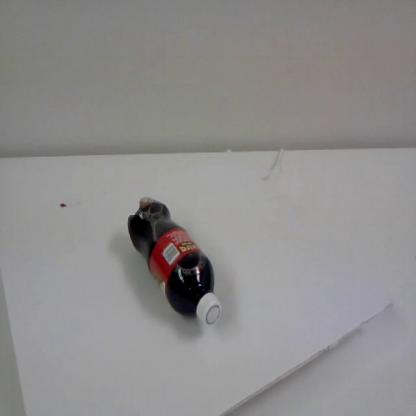bottle: (124, 195, 222, 329)
